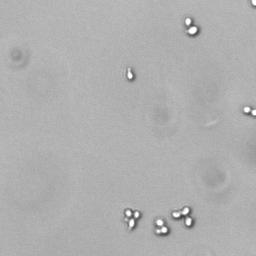2: (240, 100, 256, 122), (122, 62, 137, 85)
3a: (168, 202, 200, 228), (181, 13, 203, 38), (152, 216, 170, 240)
4a: (120, 205, 143, 234)
